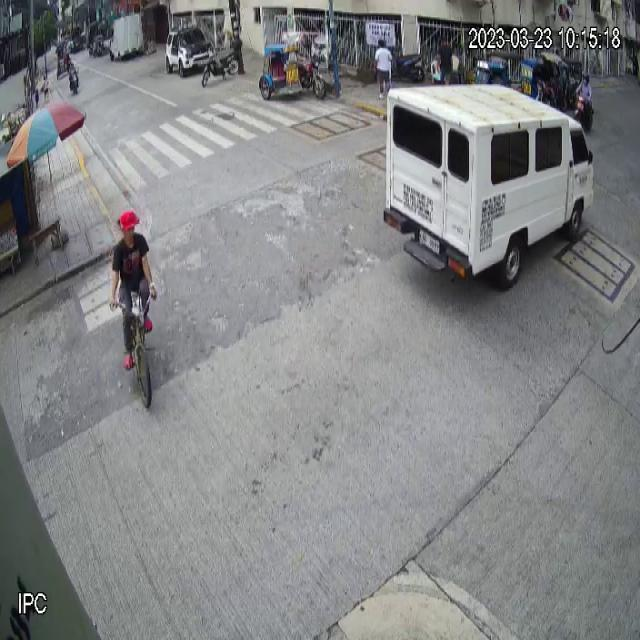Tricycle: (259, 31, 327, 100)
Van: (381, 82, 597, 294)
